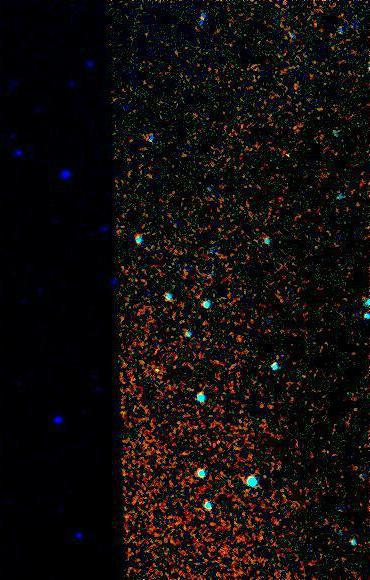star: (276, 139, 306, 169)
